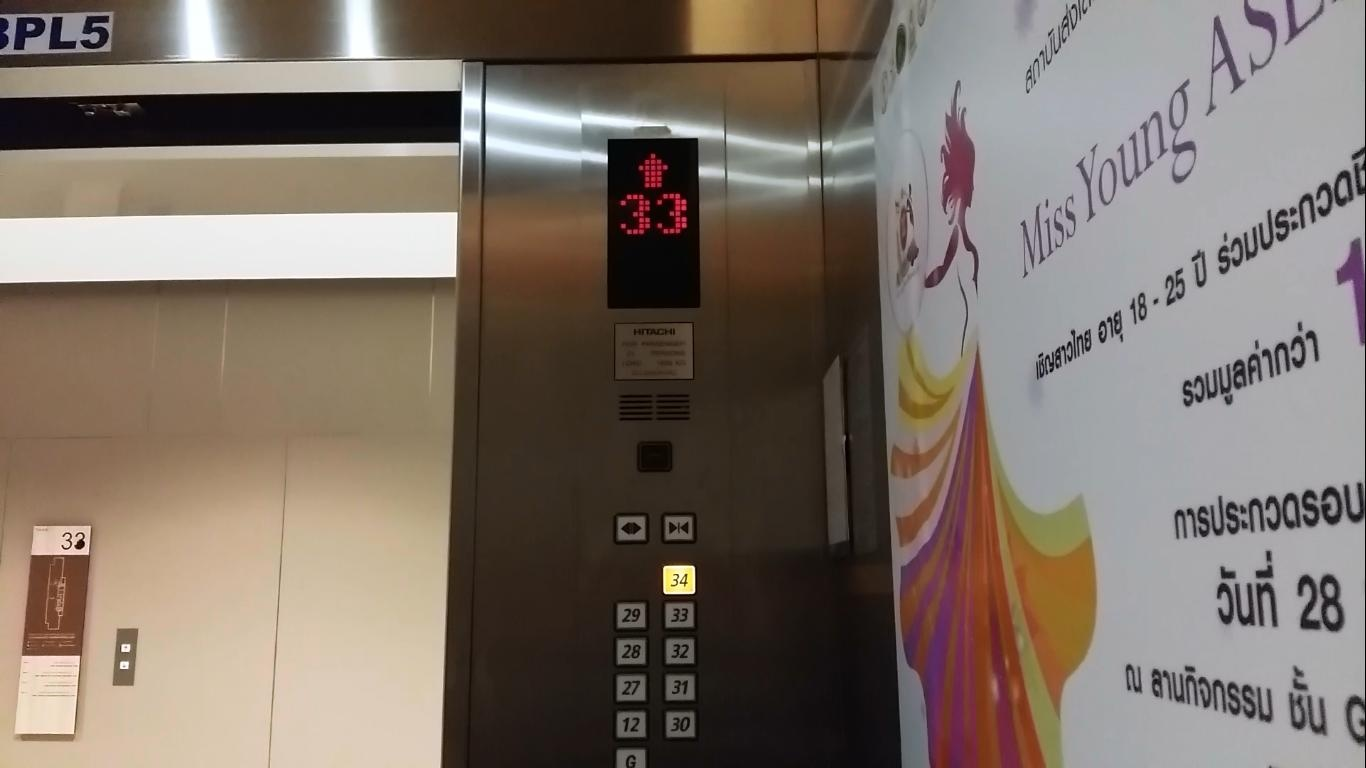12: (615, 709, 648, 740)
27: (614, 671, 647, 704)
28: (614, 635, 647, 666)
29: (613, 599, 648, 631)
30: (663, 708, 698, 740)
31: (663, 673, 696, 704)
32: (663, 635, 697, 666)
33: (662, 599, 696, 629)
34: (661, 564, 697, 596)
close: (658, 512, 698, 544)
empty: (636, 441, 673, 472)
led: (601, 132, 704, 312)
open: (610, 512, 649, 546)
